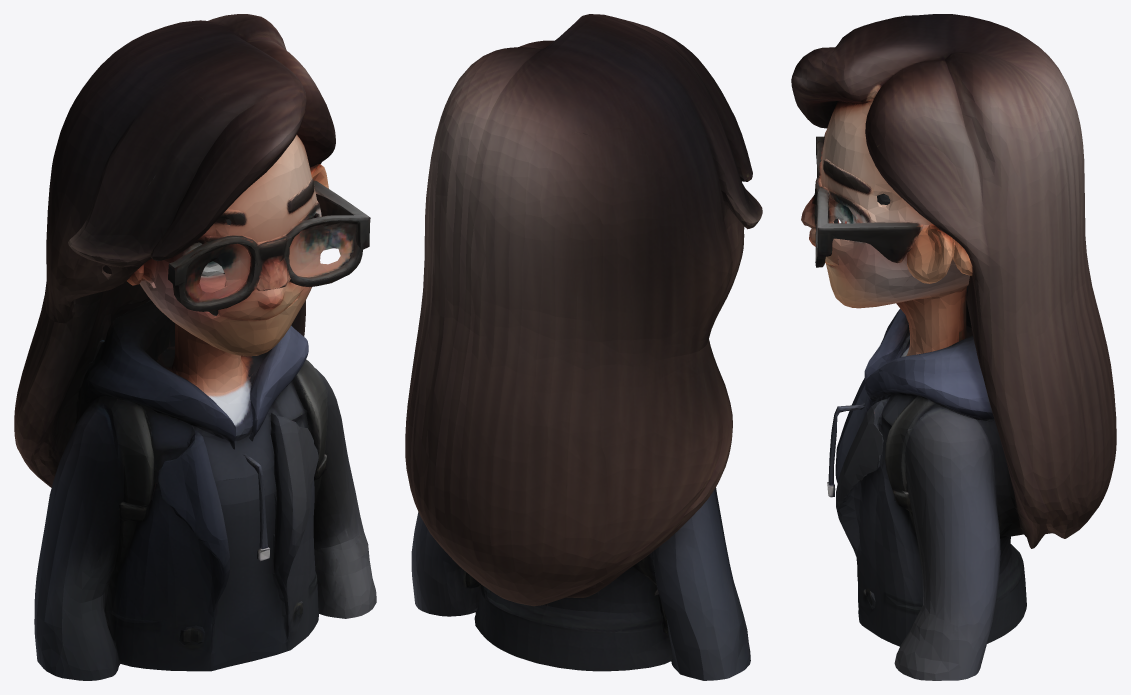
File: fille6.glb
The picture shows the model from 3 angles, left to right: view 1: azimuth 30°, elevation 25°; view 2: azimuth 150°, elevation 25°; view 3: azimuth 270°, elevation 25°; orthographic projection. The views are drawn at different scales.
Parts seen in each view (by area): view 1: world; view 2: world; view 3: world.
Part boxes in pixels (x1,y1,x2,y2): world: (14,14,376,680); world: (405,14,762,680); world: (791,14,1116,680).
Bounding box in the file's own units: 0.5804 × 0.9987 × 0.5092.
Materials: 1 (1 with a texture image).
